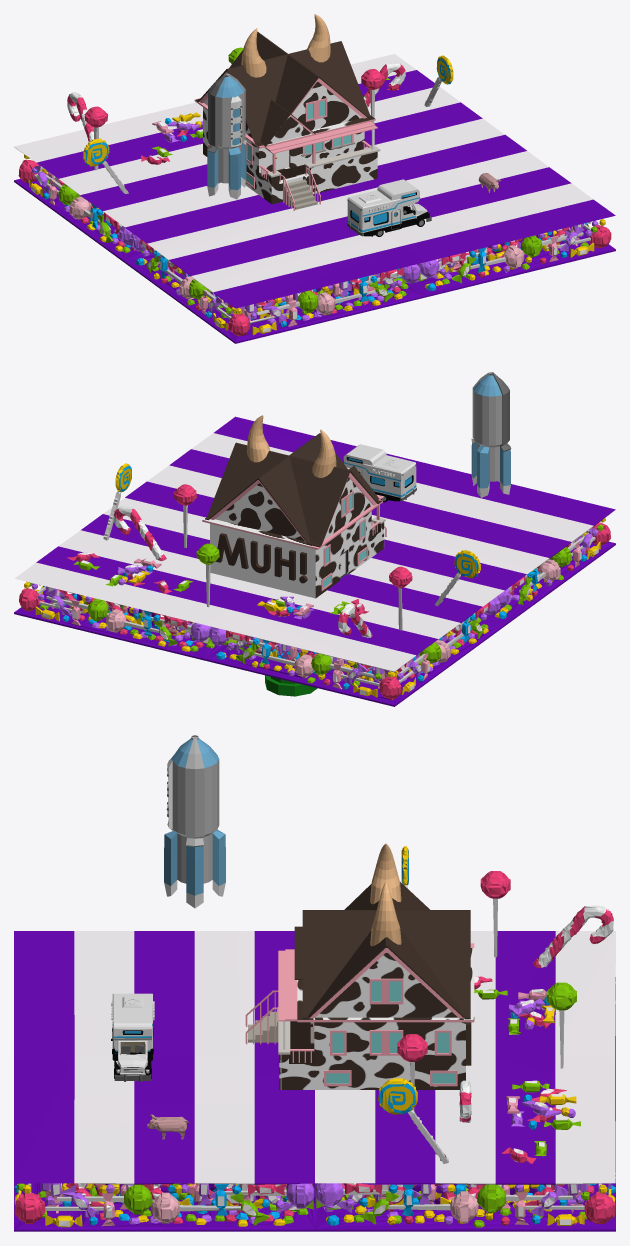
3 views of the same model, one above another, from view 1: azimuth 30°, elevation 25°; view 2: azimuth 150°, elevation 25°; view 3: azimuth 270°, elevation 25° (orthographic). The views are drawn at different scales.
Visible parts, largest first — view 1: TERRAIN_CANDY, Cube.1242, OBJRANDOM_ROCKETSHIP, VEHICLES_CAMPER; view 2: TERRAIN_CANDY, Cube.1242, OBJRANDOM_ROCKETSHIP, VEHICLES_CAMPER, UNDERGROUND_PIPES; view 3: TERRAIN_CANDY, Cube.1242, OBJRANDOM_ROCKETSHIP, VEHICLES_CAMPER.
Part boxes in pixels (x1,y1,x2,y2): TERRAIN_CANDY: (14, 47, 615, 343); Cube.1242: (194, 14, 380, 210); OBJRANDOM_ROCKETSHIP: (207, 73, 246, 199); VEHICLES_CAMPER: (346, 179, 431, 236); TERRAIN_CANDY: (14, 416, 615, 706); Cube.1242: (202, 415, 386, 598); OBJRANDOM_ROCKETSHIP: (471, 372, 511, 497); VEHICLES_CAMPER: (343, 444, 416, 502); UNDERGROUND_PIPES: (265, 675, 317, 696); TERRAIN_CANDY: (14, 846, 615, 1231); Cube.1242: (245, 843, 474, 1089); OBJRANDOM_ROCKETSHIP: (164, 735, 225, 908); VEHICLES_CAMPER: (111, 993, 154, 1081).
Size of the model in its own units: 4059 by 2720 by 4000.
Materials: 33 (2 with a texture image).
